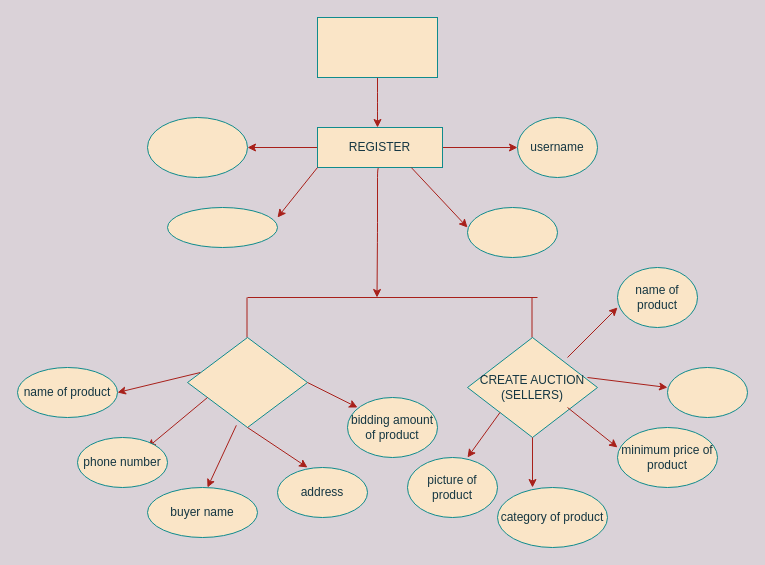
Image size: 765x565. Some labels were removed from this diagram. The centre of each missing label's shape, as x and y in pixels:
"description of product" goes at (707,392).
"email" goes at (222,227).
"JOIN AUCTION (BUYERS)" goes at (247,382).
"mobile number" goes at (512,232).
"ONLINE AUCTION" goes at (377,47).
"password" goes at (197,147).
